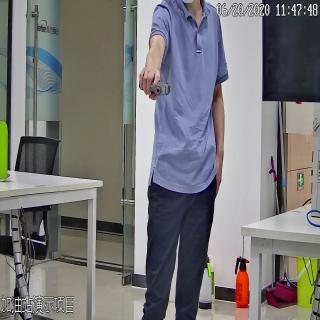gun: (137, 70, 171, 100)
